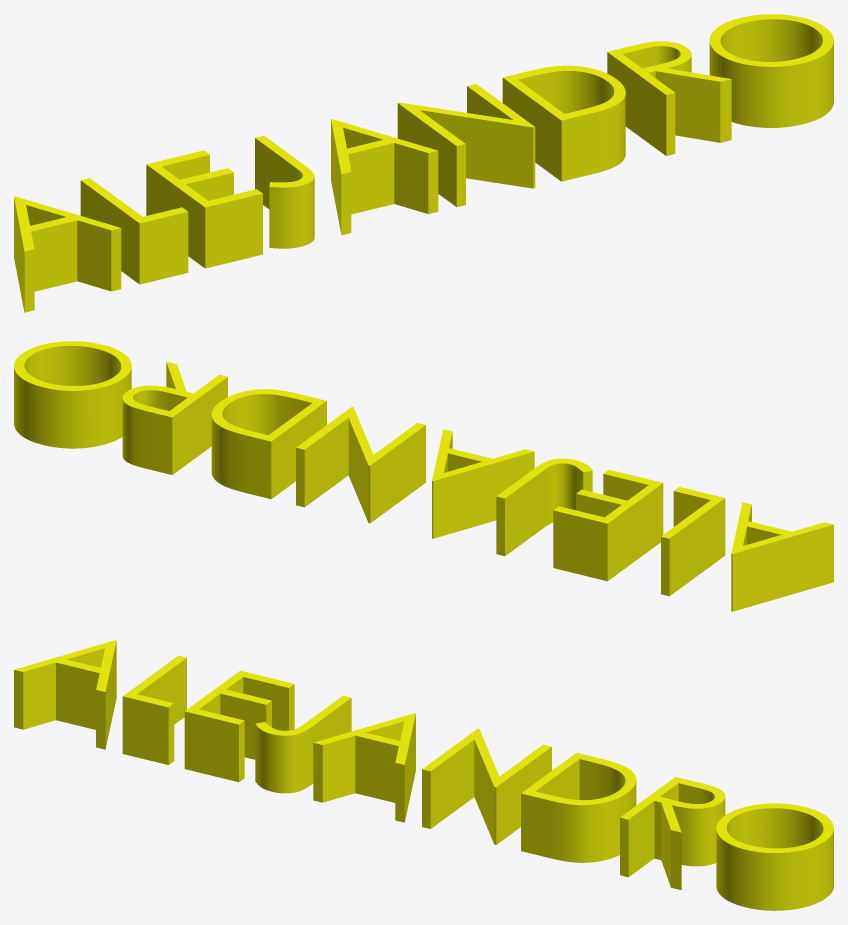
The model's file is Nombre Alejandro.glb.
The picture shows the model from 3 angles, top to bottom: view 1: azimuth 30°, elevation 25°; view 2: azimuth 150°, elevation 25°; view 3: azimuth 330°, elevation 25°; orthographic projection. The views are drawn at different scales.
Parts seen in each view (by area): view 1: Extrude19, Extrude17, Extrude16, Extrude18, Extrude13, Extrude11, Extrude15, Extrude12, Extrude14; view 2: Extrude19, Extrude17, Extrude13, Extrude16, Extrude18, Extrude11, Extrude15, Extrude14, Extrude12; view 3: Extrude19, Extrude17, Extrude13, Extrude18, Extrude16, Extrude15, Extrude11, Extrude12, Extrude14.
Boxes of the visible parts, left/top/right/bottom form: Extrude19: left=709, top=14, right=833, bottom=127; Extrude17: left=502, top=65, right=625, bottom=181; Extrude16: left=397, top=84, right=535, bottom=206; Extrude18: left=607, top=41, right=731, bottom=155; Extrude13: left=146, top=150, right=262, bottom=268; Extrude11: left=14, top=196, right=121, bottom=312; Extrude15: left=331, top=119, right=438, bottom=235; Extrude12: left=80, top=178, right=188, bottom=284; Extrude14: left=255, top=135, right=314, bottom=248; Extrude19: left=14, top=341, right=131, bottom=448; Extrude17: left=211, top=389, right=326, bottom=499; Extrude13: left=553, top=469, right=663, bottom=581; Extrude16: left=296, top=407, right=425, bottom=523; Extrude18: left=122, top=361, right=227, bottom=474; Extrude11: left=731, top=502, right=833, bottom=611; Extrude15: left=432, top=429, right=534, bottom=538; Extrude14: left=496, top=458, right=592, bottom=556; Extrude12: left=661, top=487, right=725, bottom=596; Extrude19: left=716, top=803, right=833, bottom=910; Extrude17: left=521, top=752, right=636, bottom=862; Extrude13: left=184, top=670, right=294, bottom=782; Extrude18: left=620, top=777, right=725, bottom=890; Extrude16: left=422, top=728, right=551, bottom=844; Extrude15: left=313, top=713, right=415, bottom=822; Extrude11: left=14, top=640, right=116, bottom=749; Extrude12: left=122, top=655, right=186, bottom=764; Extrude14: left=255, top=695, right=351, bottom=793.
Bounding box in the file's own units: 2.84 × 0.2 × 0.3679.
